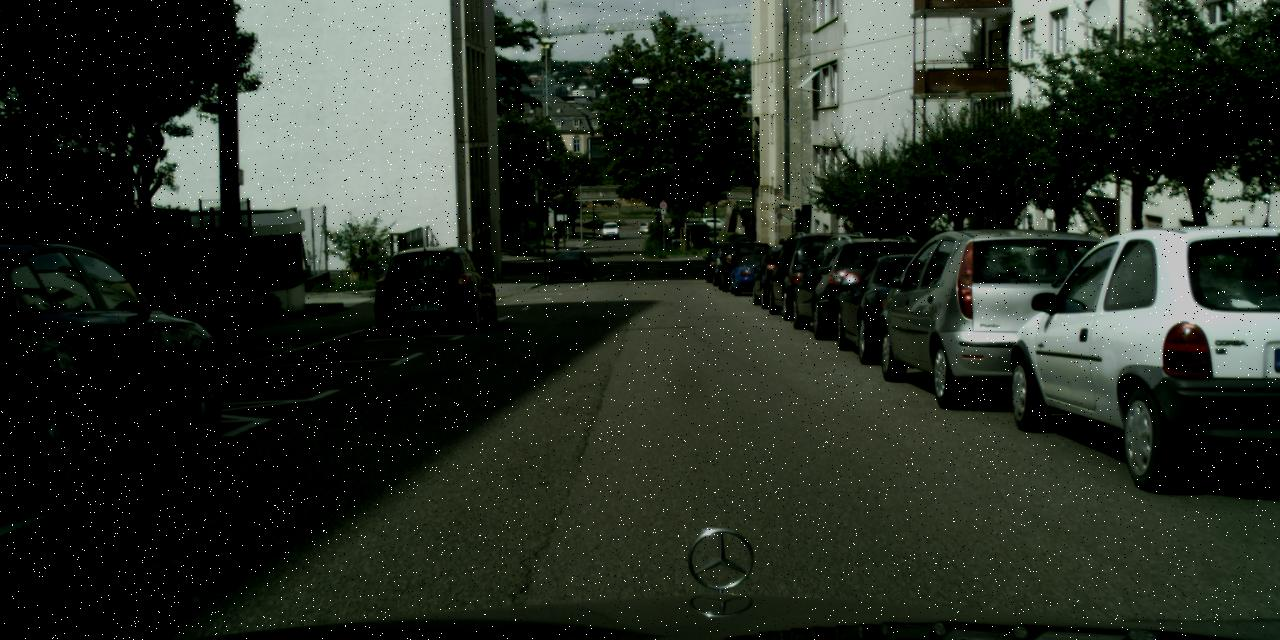ped: (115, 228, 169, 360), (550, 229, 560, 251)
